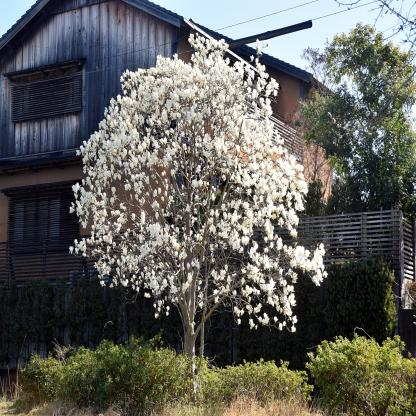Mokuren: (69, 31, 328, 338)
